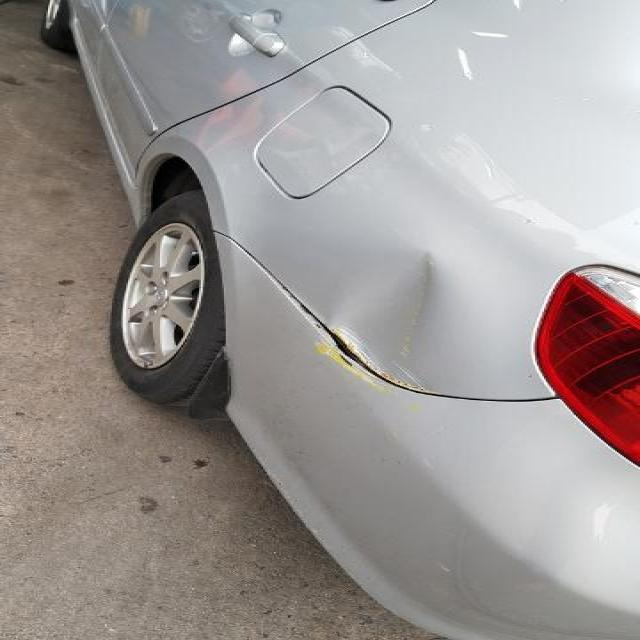Dent: (437, 563, 450, 572)
